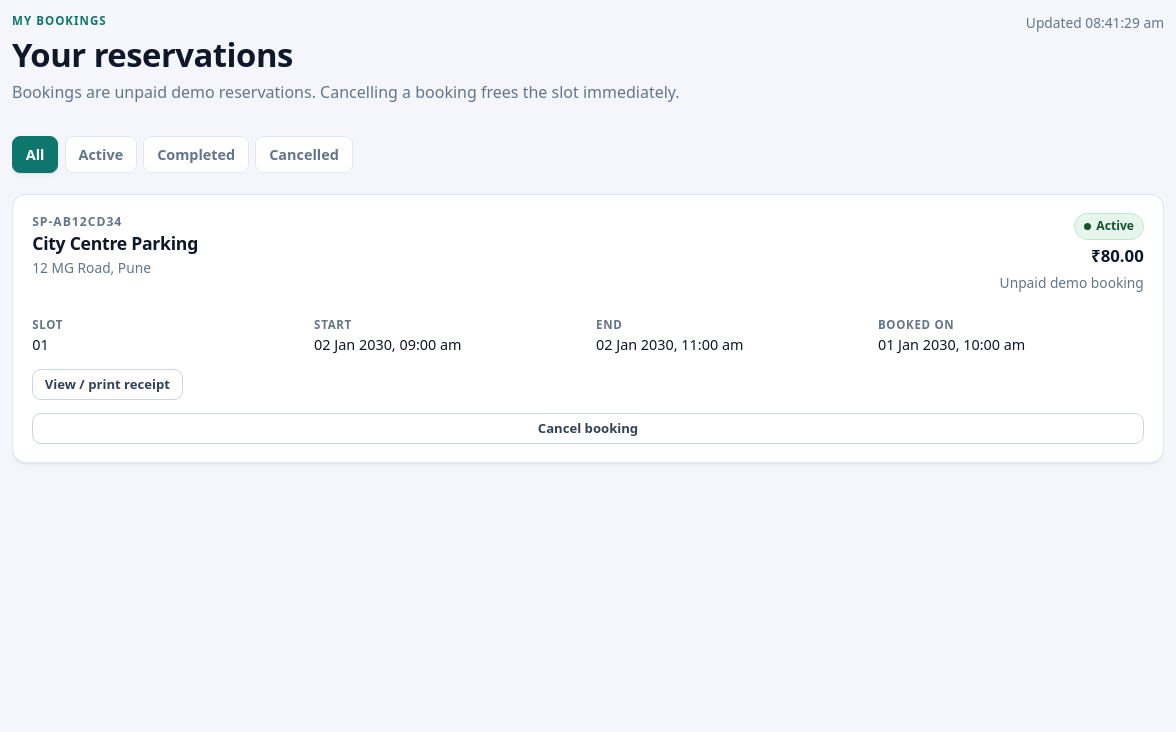
Test: cancellation flow › cancels an active booking after confirmation and refreshes the list
Expected: the list item "SP-AB12CD34" is shown, [32, 213, 122, 230]
Click the button "Cancel booking" at (588, 429), box [32, 413, 1144, 444]
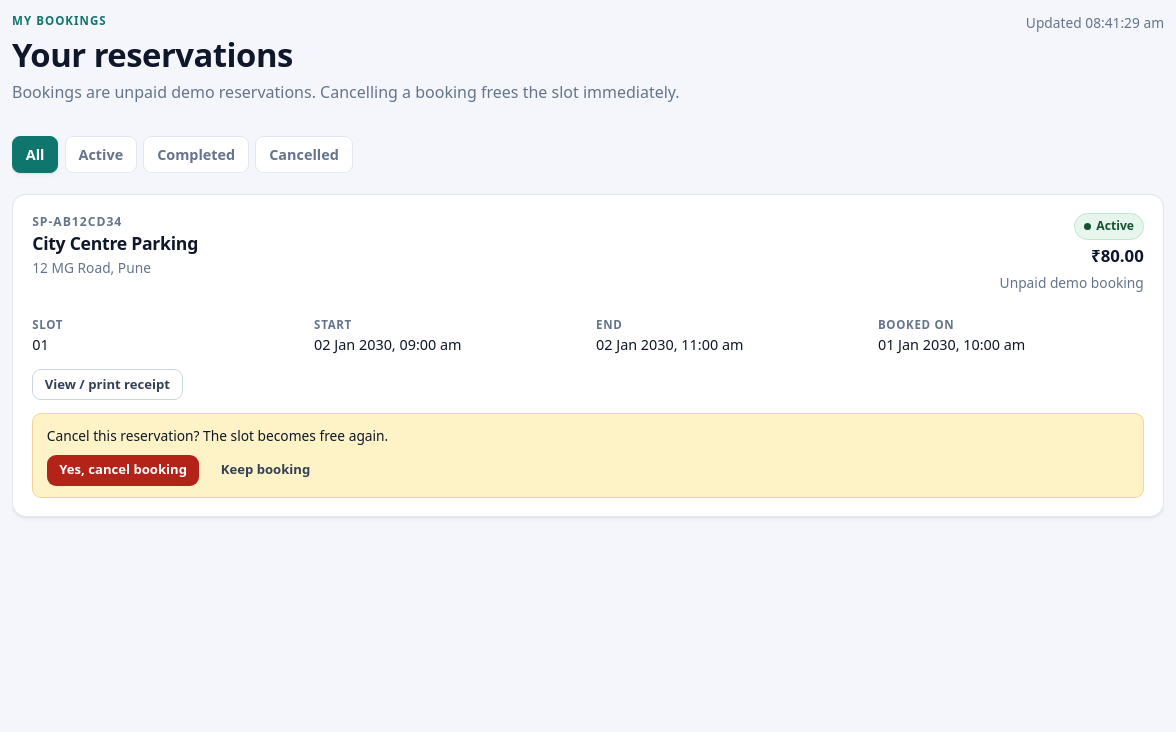
Expected: the text "Cancel this reservation? The slot becomes free again." is shown, [47, 426, 388, 445]
Click the button "Yes, cancel booking" at (123, 470), box [47, 454, 200, 486]
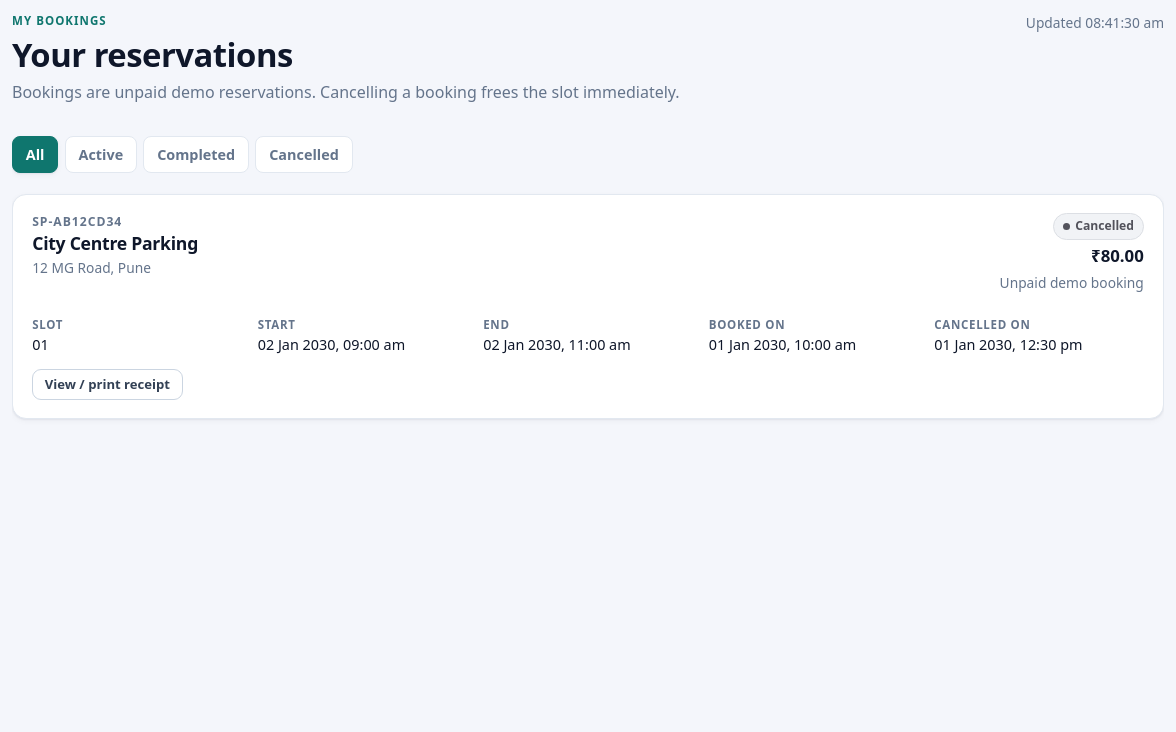
Expected: the text "Cancelled" is shown, [1053, 213, 1144, 240]
Expected: the button "cancel booking" is gone
